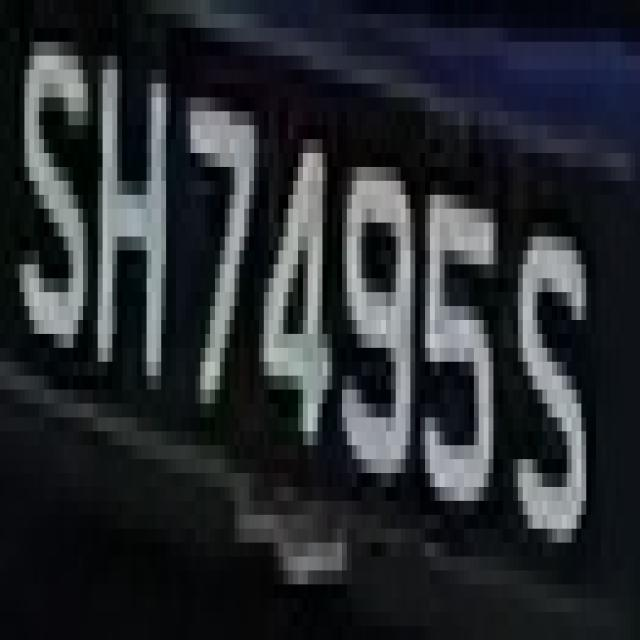4: (254, 111, 342, 487)
5: (406, 167, 498, 543)
7: (166, 98, 264, 446)
9: (318, 139, 420, 515)
H: (102, 56, 180, 445)
S: (513, 167, 601, 584), (10, 41, 93, 362)
